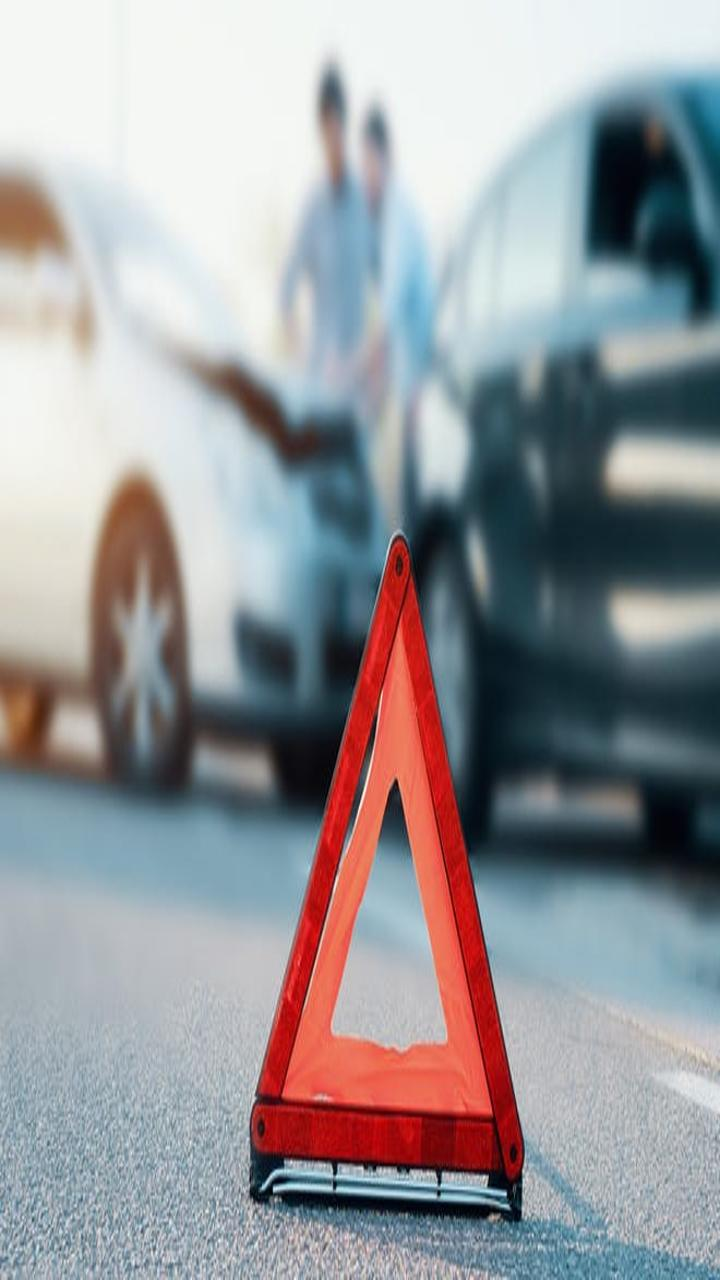Traffic sign: (188, 504, 550, 1224)
vehicle: (1, 108, 378, 750), (414, 83, 720, 855)
